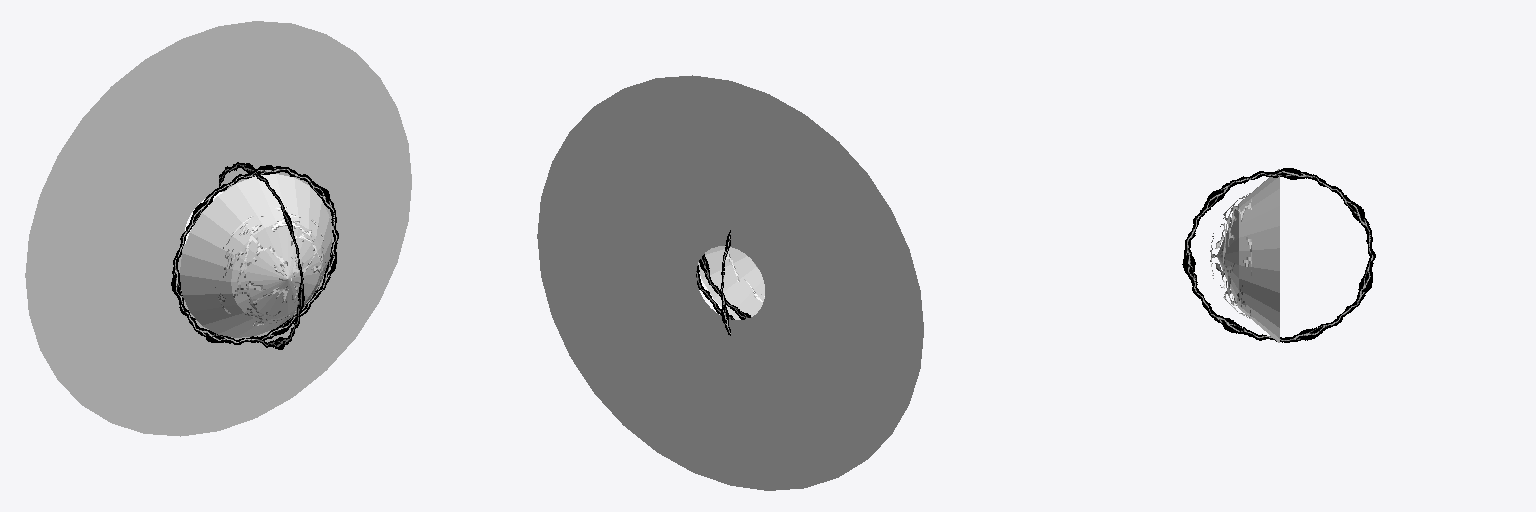
3 views of the same model, side by side, from view 1: azimuth 30°, elevation 25°; view 2: azimuth 150°, elevation 25°; view 3: azimuth 270°, elevation 25° (orthographic).
Visible parts, largest first — view 1: polygon0, polygon5, polygon2, polygon4, polygon3; view 2: polygon0, polygon5; view 3: polygon5, polygon3, polygon4.
Part boxes in pixels (x1,y1,x2,y2): polygon0: (25, 21, 411, 436); polygon5: (180, 174, 331, 337); polygon2: (171, 165, 338, 344); polygon4: (215, 207, 325, 325); polygon3: (209, 162, 304, 349); polygon0: (537, 75, 923, 490); polygon5: (698, 246, 764, 319); polygon5: (1217, 169, 1279, 342); polygon3: (1182, 168, 1375, 342); polygon4: (1210, 193, 1251, 318).
Bounding box in the file's own units: 60 × 60 × 30.05.
6 materials, 2 textured.